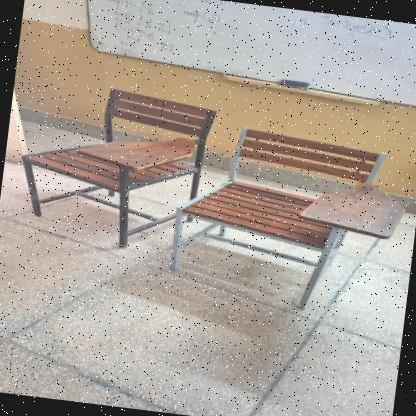chair: (159, 115, 409, 320), (6, 72, 226, 258)
